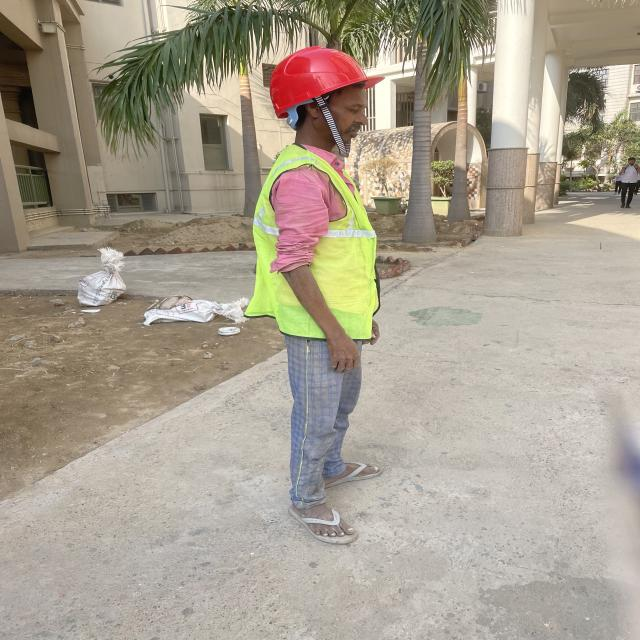safe: (244, 46, 382, 543)
unsafe: (618, 157, 640, 208)
